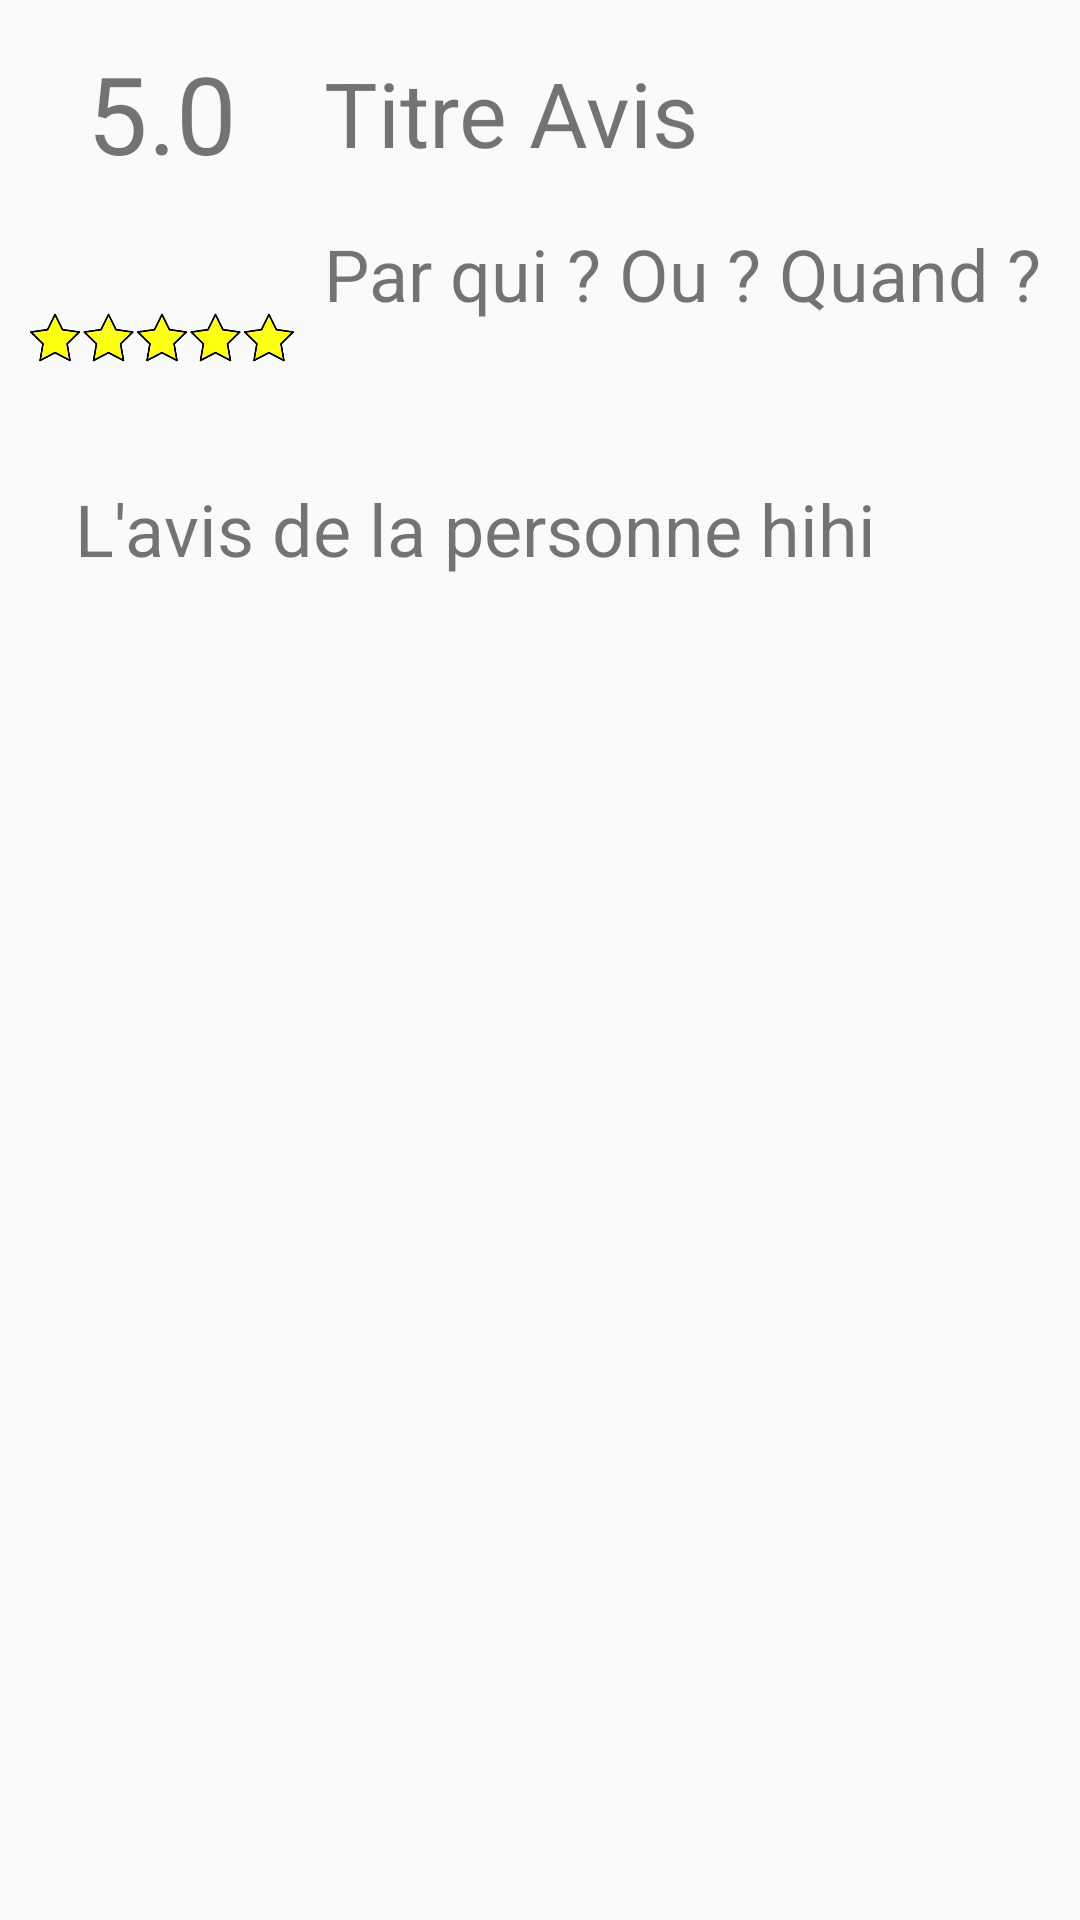

Icon click points for this 1080x1920 phone screenshot, format (x,y):
stars: (162,337)
